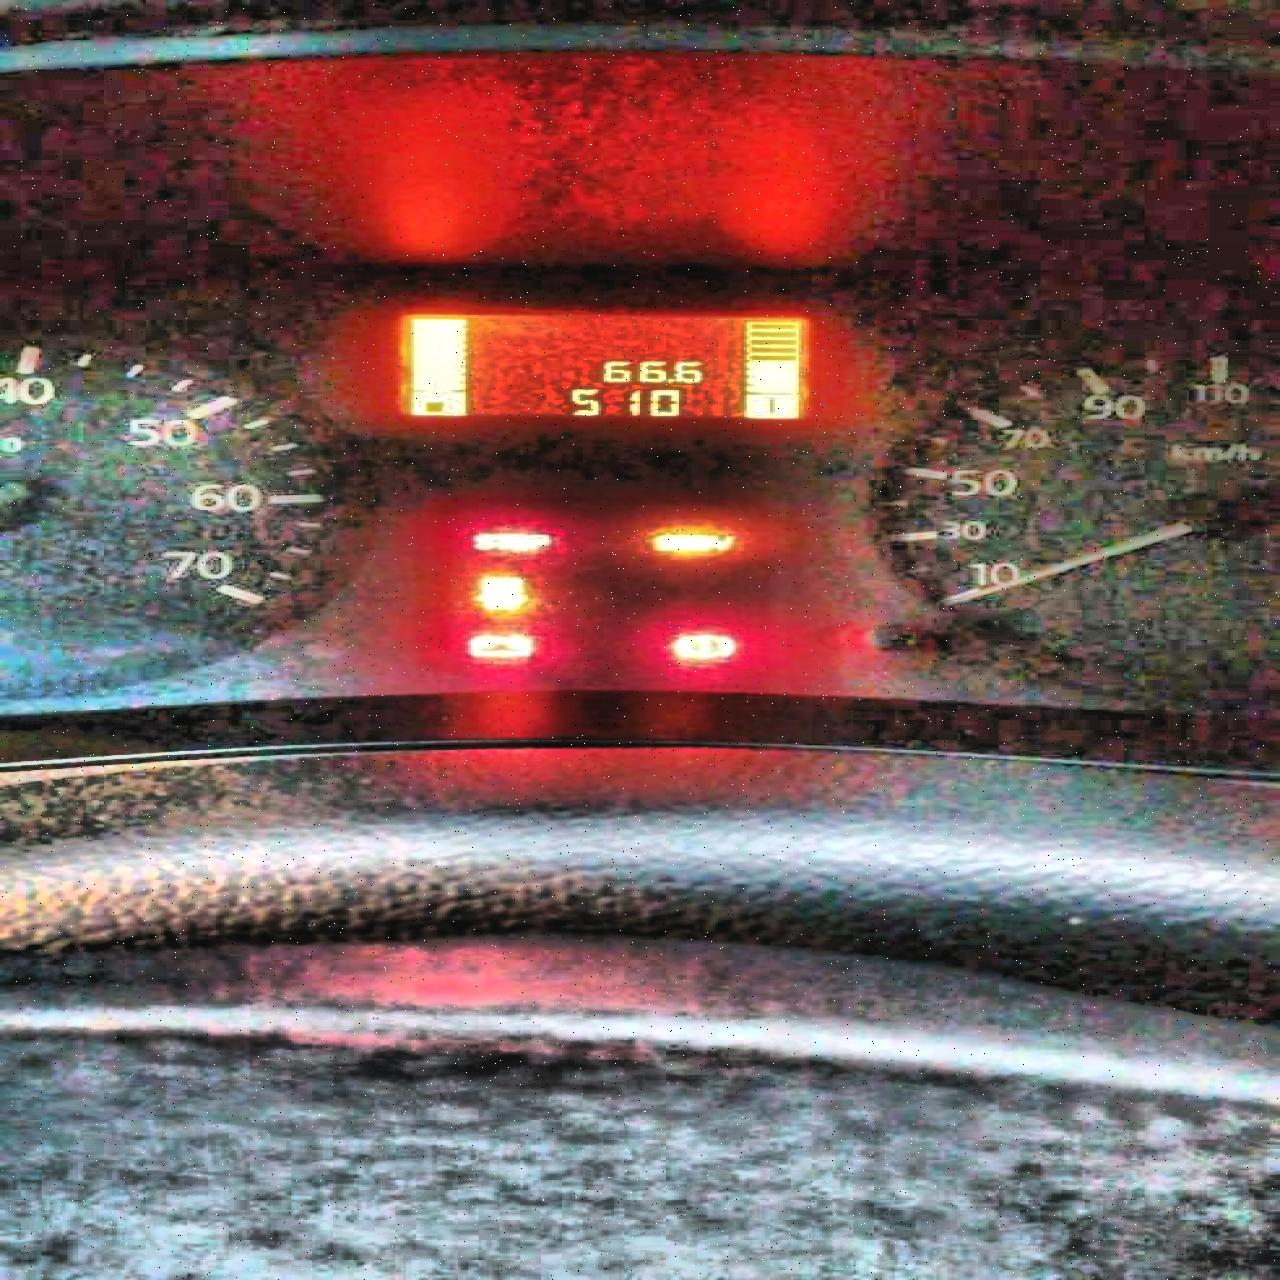-: (663, 376, 674, 383)
0: (645, 388, 679, 417)
1: (625, 389, 640, 416)
5: (565, 388, 601, 416)
6: (672, 360, 702, 382), (599, 360, 629, 382), (635, 360, 666, 382)
odometer: (388, 311, 815, 421)
